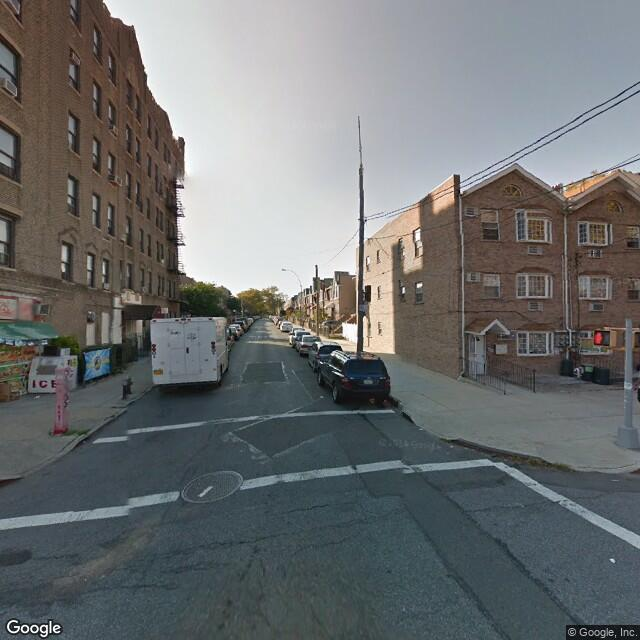litter: (608, 558, 615, 562), (34, 393, 39, 398), (320, 394, 325, 398)
